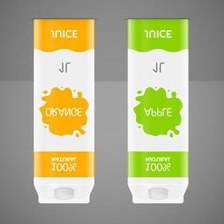carton: (26, 15, 101, 206), (122, 14, 195, 206)
